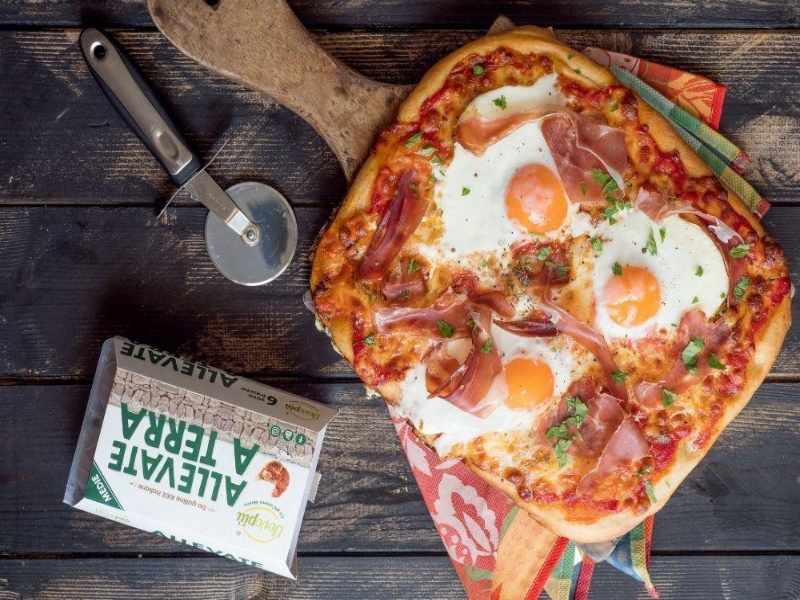oeuf: (477, 153, 578, 244), (595, 253, 675, 337), (488, 345, 568, 422)
